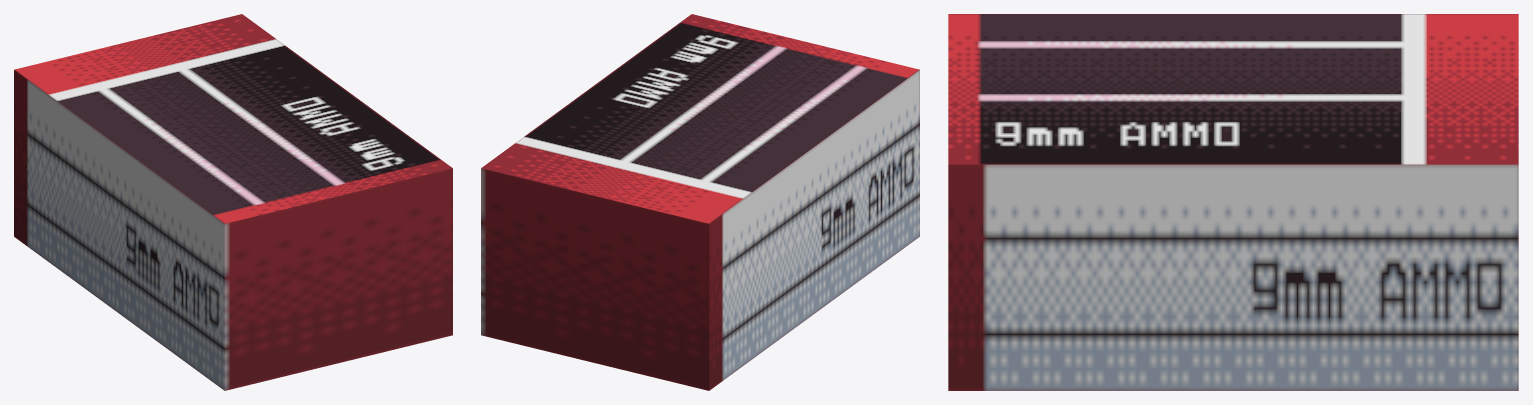
3 renders of one model, left to right at view 1: azimuth 30°, elevation 25°; view 2: azimuth 150°, elevation 25°; view 3: azimuth 270°, elevation 25°, orthographic. The views are drawn at different scales.
Visible parts, largest first — view 1: cube; view 2: cube; view 3: cube.
Part boxes in pixels (x1,y1,x2,y2): cube: (14, 14, 452, 390); cube: (481, 14, 919, 390); cube: (948, 14, 1518, 390).
Bounding box in the file's own units: 62.5 × 43.75 × 100.
1 material, 1 textured.
